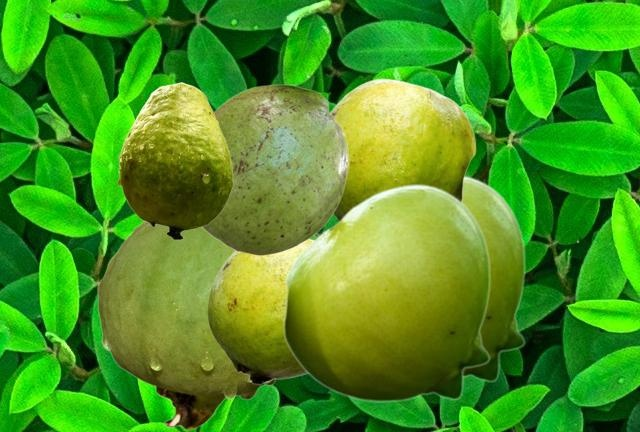guava: (282, 183, 490, 401), (97, 221, 276, 429), (202, 84, 348, 254), (330, 78, 475, 220), (117, 82, 232, 239), (207, 239, 312, 384), (463, 174, 525, 383)
